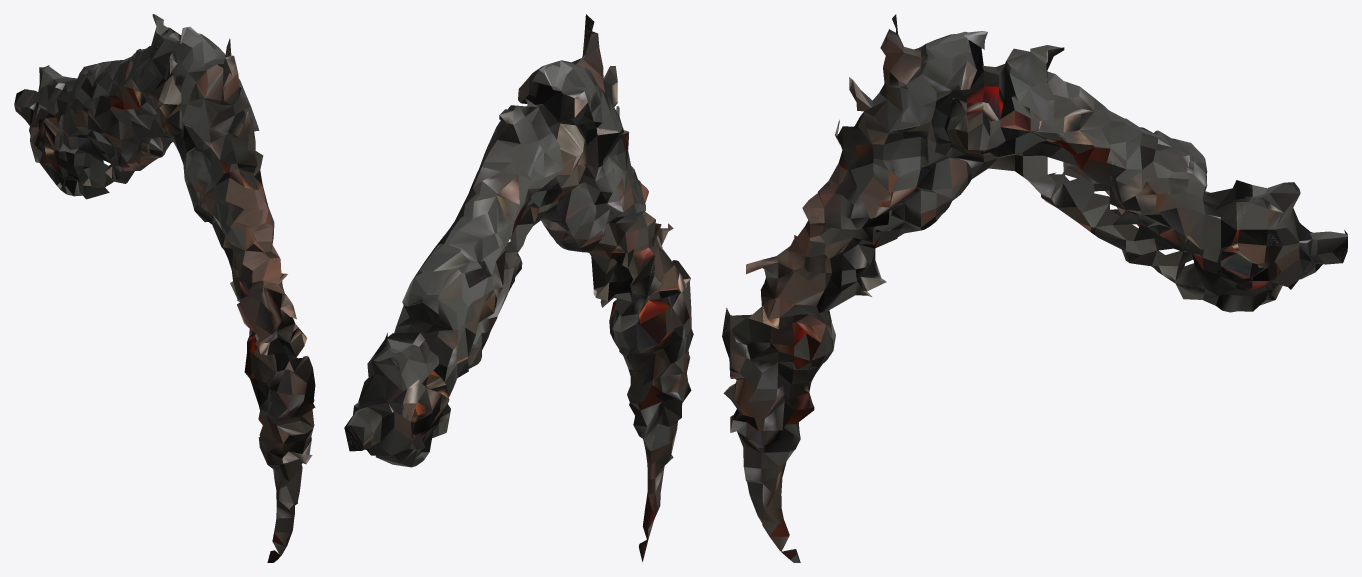
File: big+spider+arm_low.obj
3 views of the same model, side by side, from view 1: azimuth 30°, elevation 25°; view 2: azimuth 150°, elevation 25°; view 3: azimuth 270°, elevation 25° (orthographic). The views are drawn at different scales.
Bounding box in the file's own units: 0.1405 × 0.9626 × 0.9896.
1 material, 1 textured.
